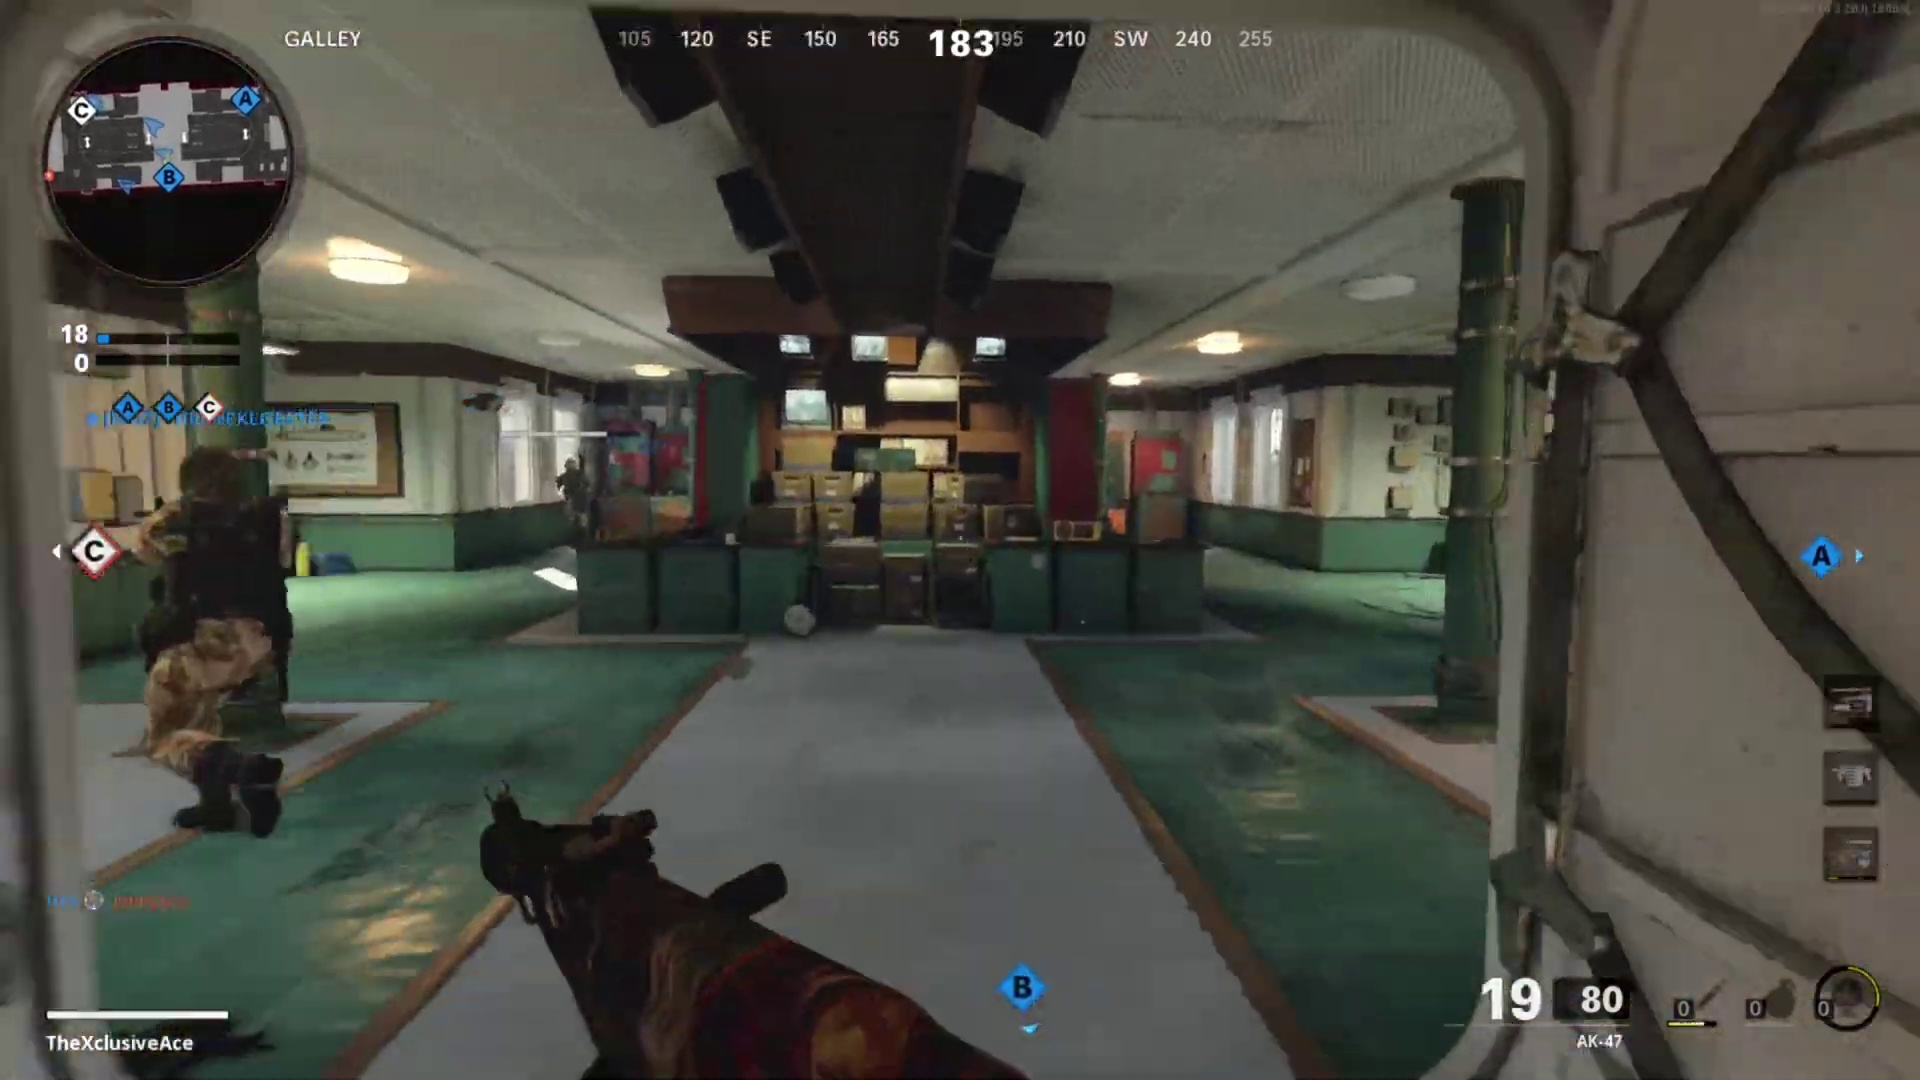head: (160, 438, 253, 536), (560, 454, 581, 477)
person: (132, 442, 302, 842), (552, 456, 589, 530)
